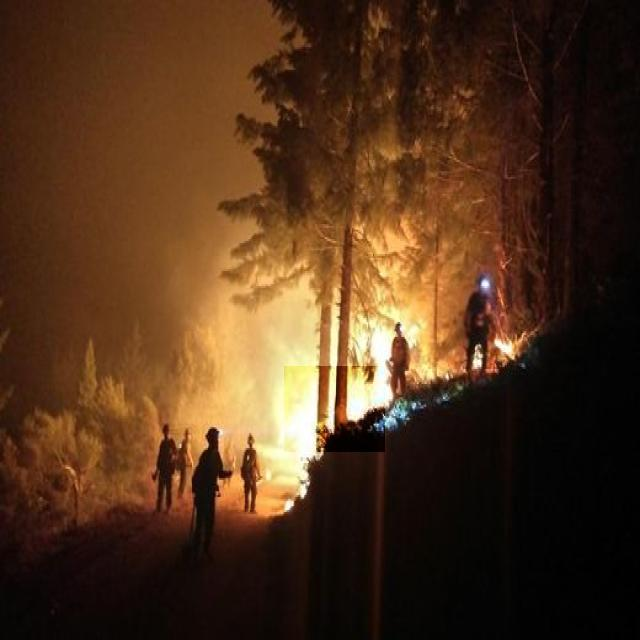Fire: (284, 366, 385, 452)
